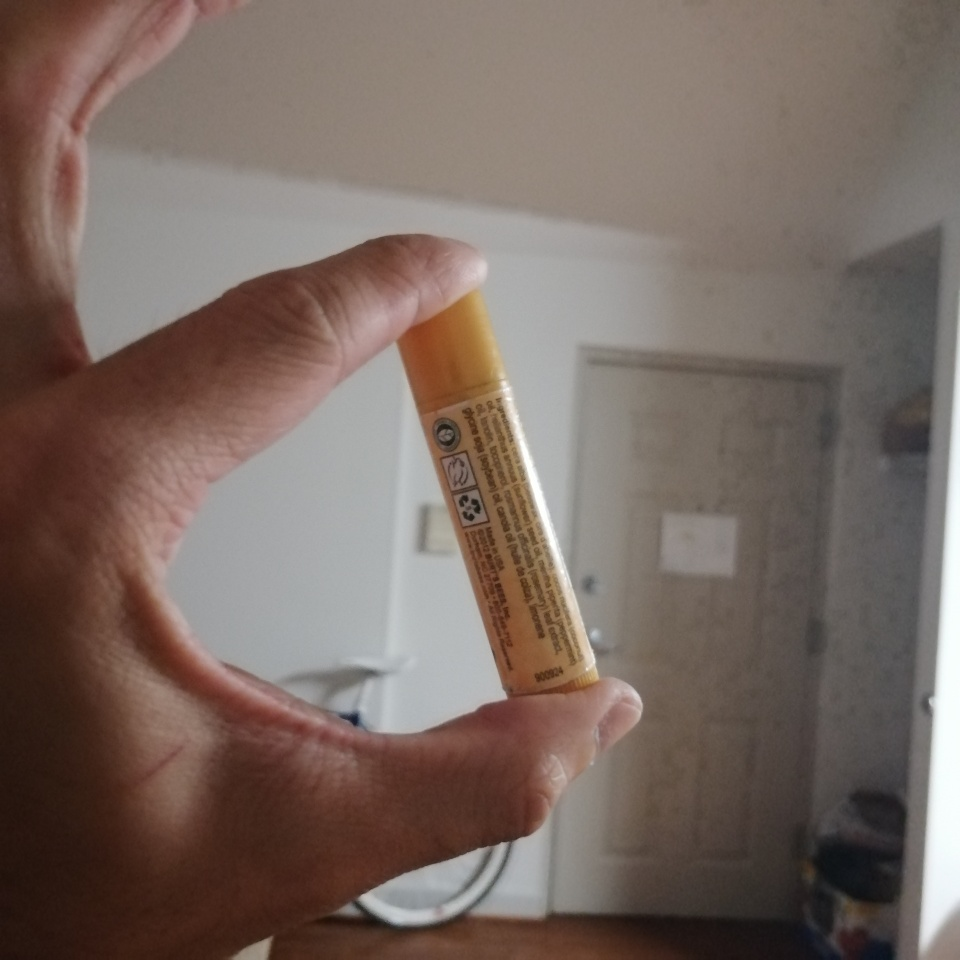chapstick: (398, 289, 604, 697)
